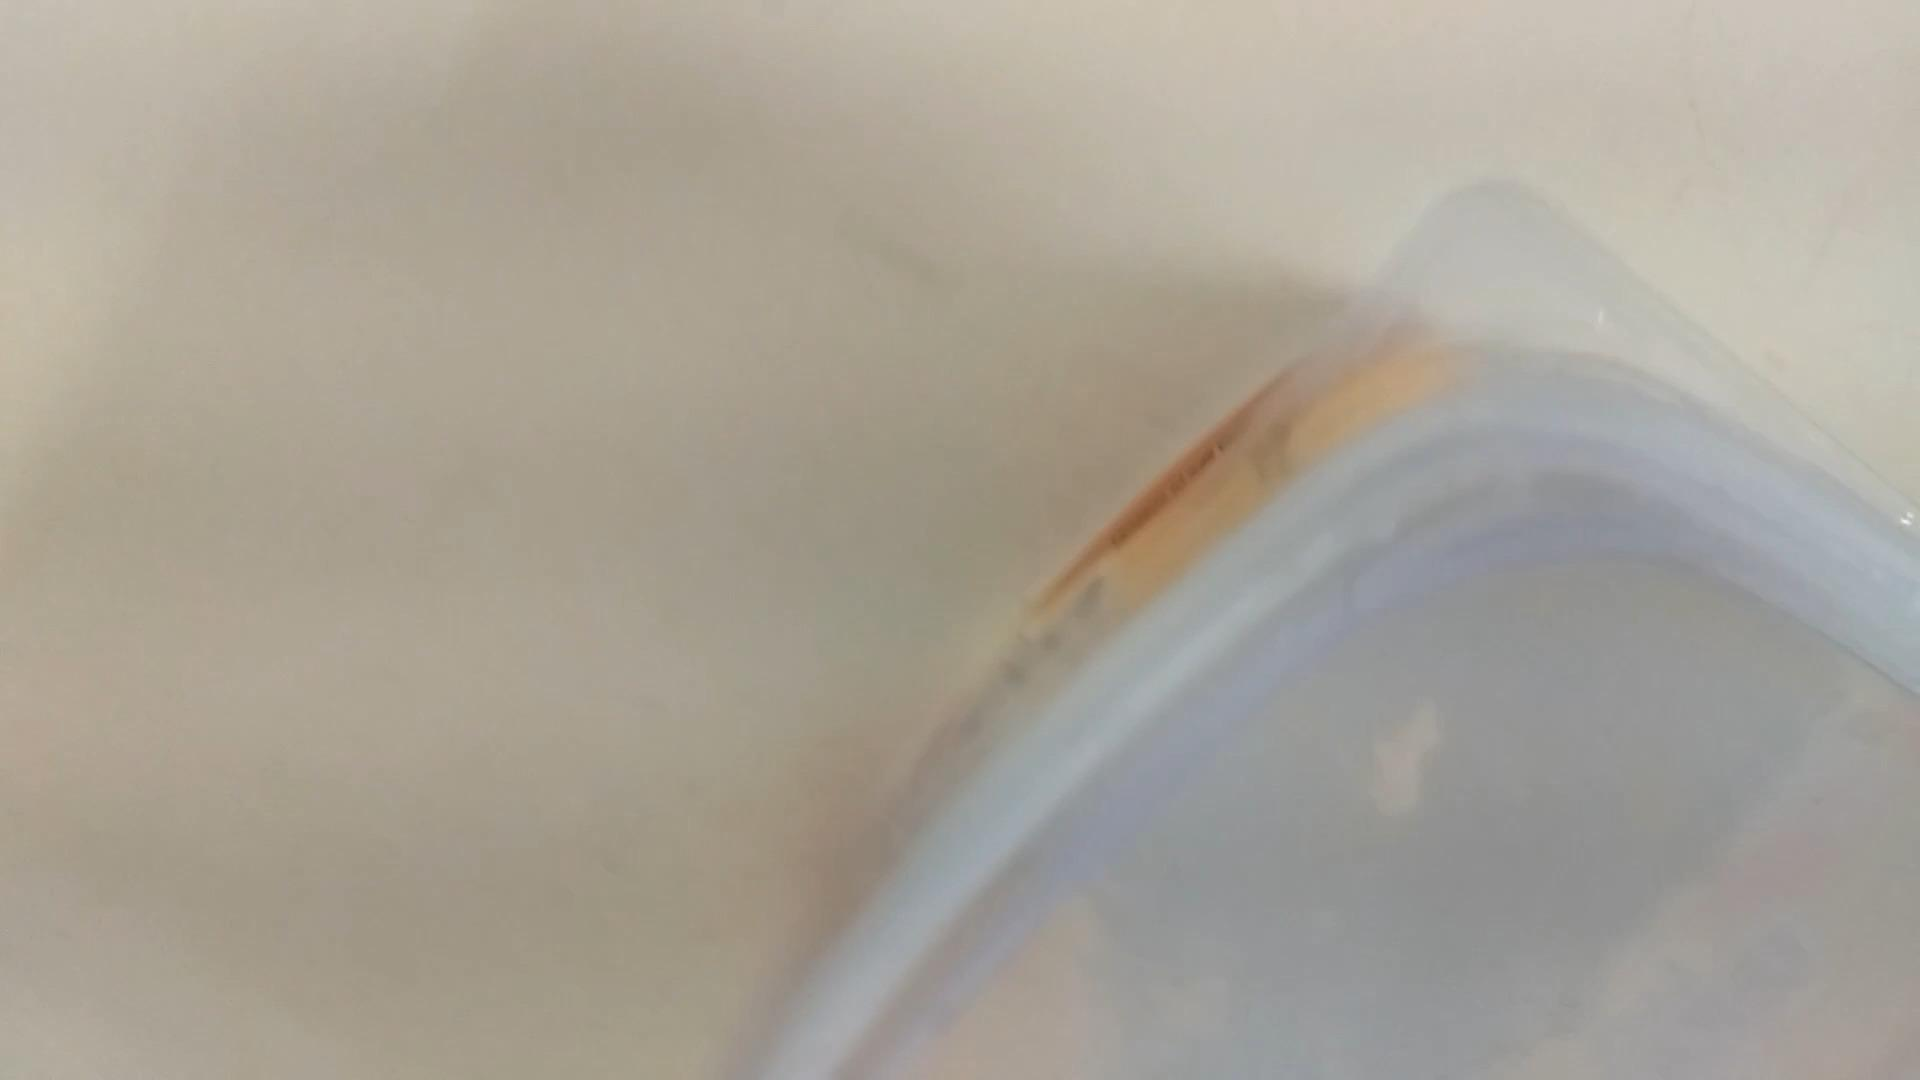butter: (686, 174, 1920, 1080)
